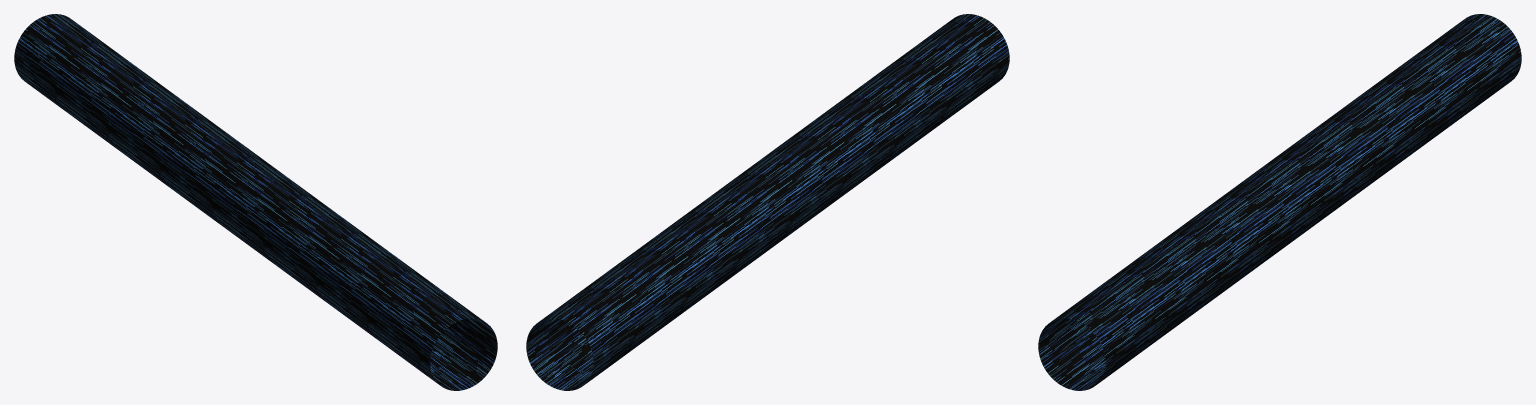
The model's file is warp_tunnel_inner.obj.
3 views of the same model, side by side, from view 1: azimuth 30°, elevation 25°; view 2: azimuth 150°, elevation 25°; view 3: azimuth 330°, elevation 25° (orthographic).
Bounding box in the file's own units: 30 × 30 × 320.
